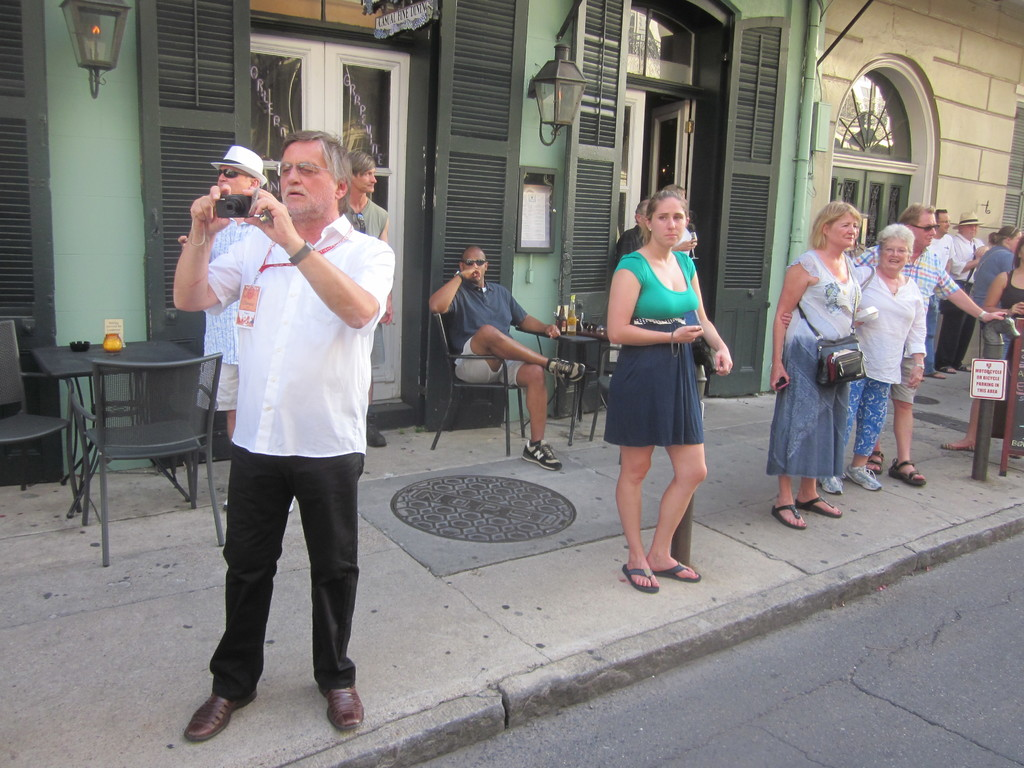Footwear: (182, 678, 260, 745), (317, 685, 363, 736), (518, 435, 564, 470), (887, 452, 927, 491), (840, 466, 883, 497), (797, 492, 843, 520), (620, 561, 658, 594), (771, 502, 809, 532), (657, 559, 700, 584), (545, 358, 585, 384), (809, 470, 844, 495), (362, 422, 387, 451), (863, 449, 887, 475), (937, 442, 975, 455), (924, 364, 947, 380), (953, 363, 972, 374), (940, 363, 959, 373)
